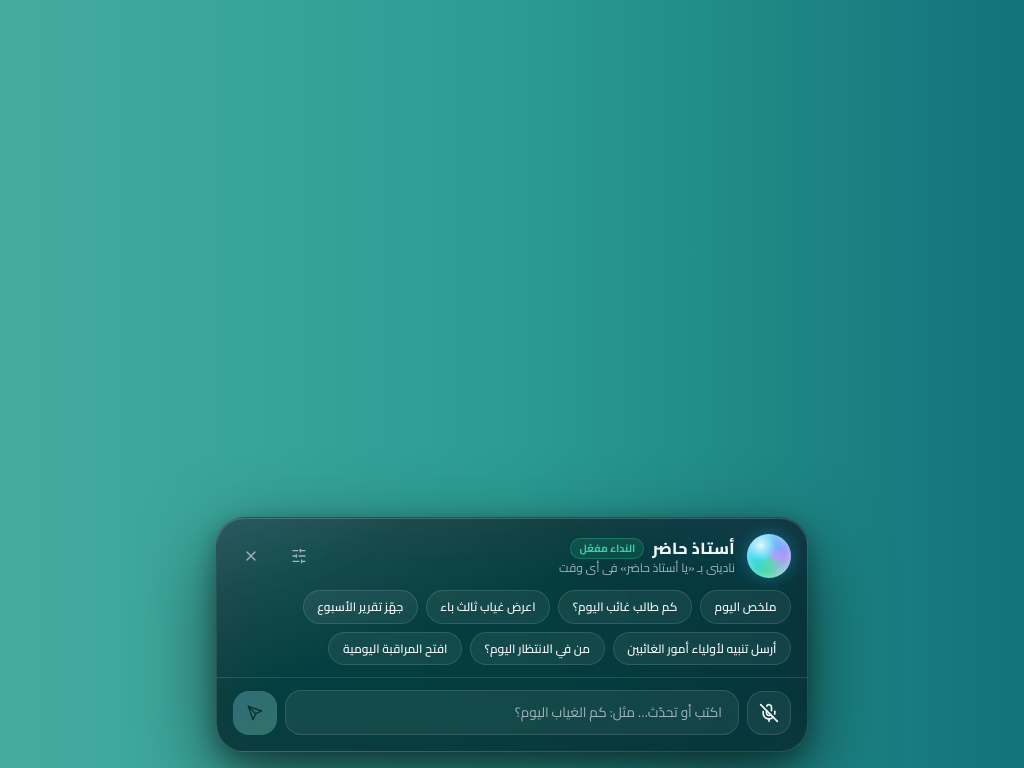
UstadHaderPanel › shows a failed WhatsApp send as a failure
The image size is (1024, 768).
Type "أرسل تنبيه لأولياء أمور الغائبين" into the field with placeholder "اكتب أو تحدّث… مثل: كم الغياب اليوم؟" at x=512, y=713, box [285, 690, 739, 735]
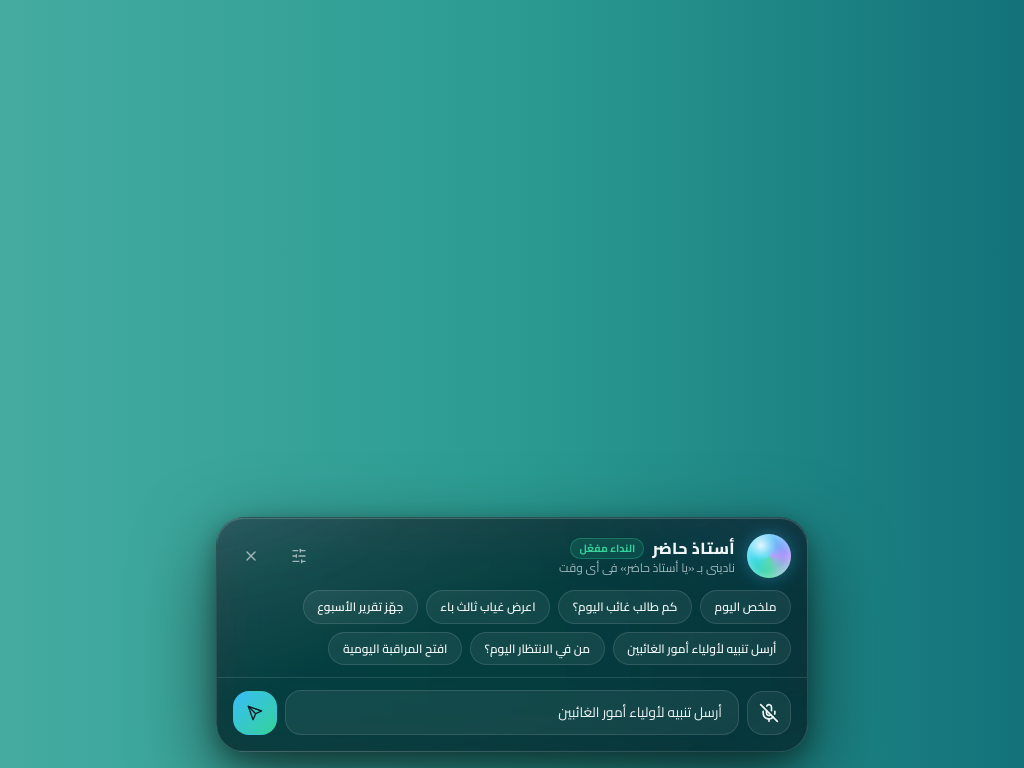
Click the button titled "إرسال الأمر" at x=255, y=713, box [233, 691, 277, 735]
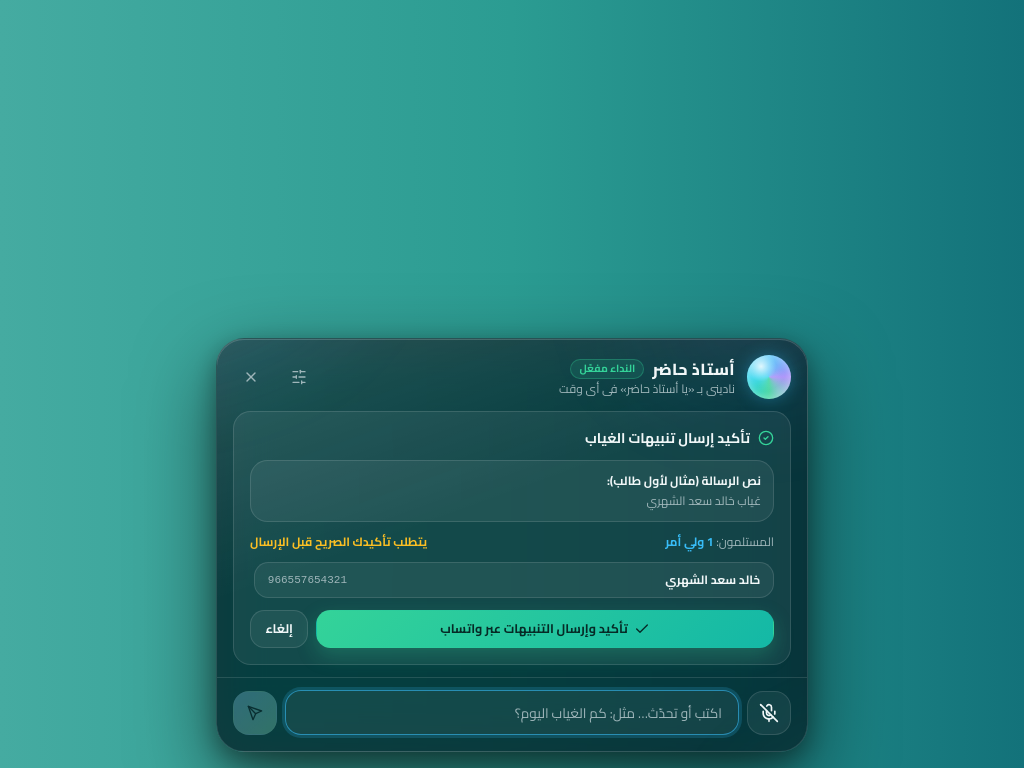
Click the button "تأكيد وإرسال التنبيهات عبر واتساب" at x=545, y=629, box [316, 610, 774, 648]
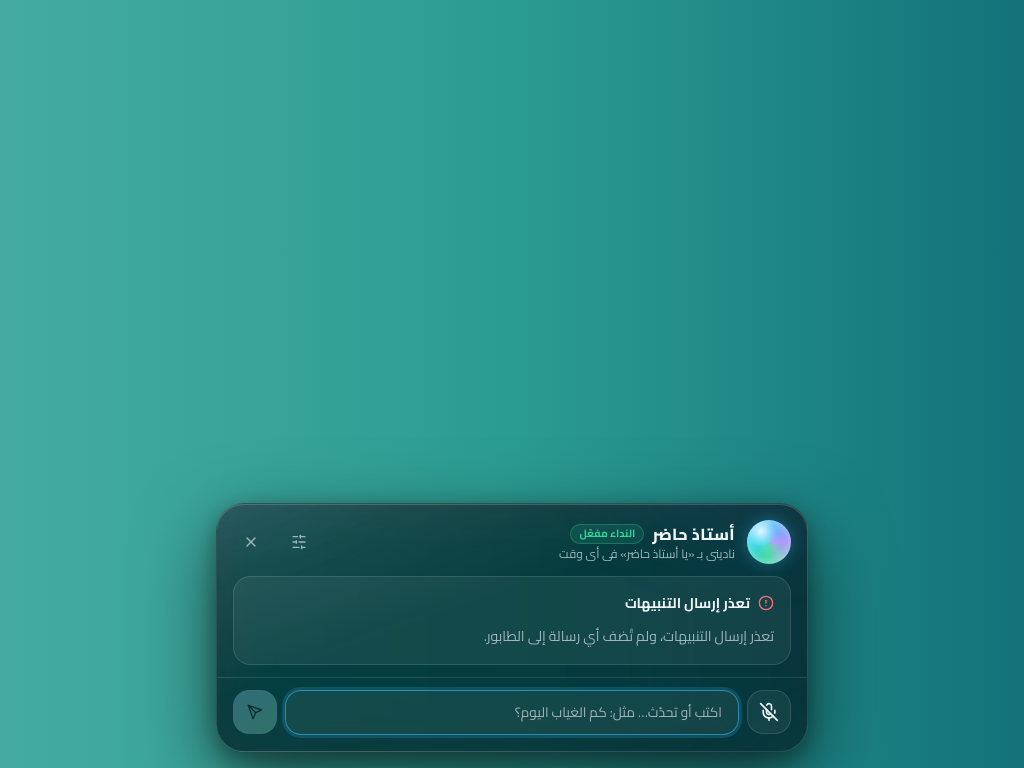
expect the text "تعذر إرسال التنبيهات، ولم تُضف أي رسالة إلى الطابور." is shown: met, box [484, 624, 774, 650]
